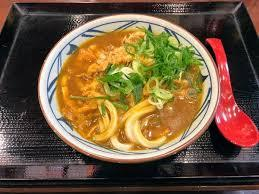curry: (39, 14, 221, 167)
